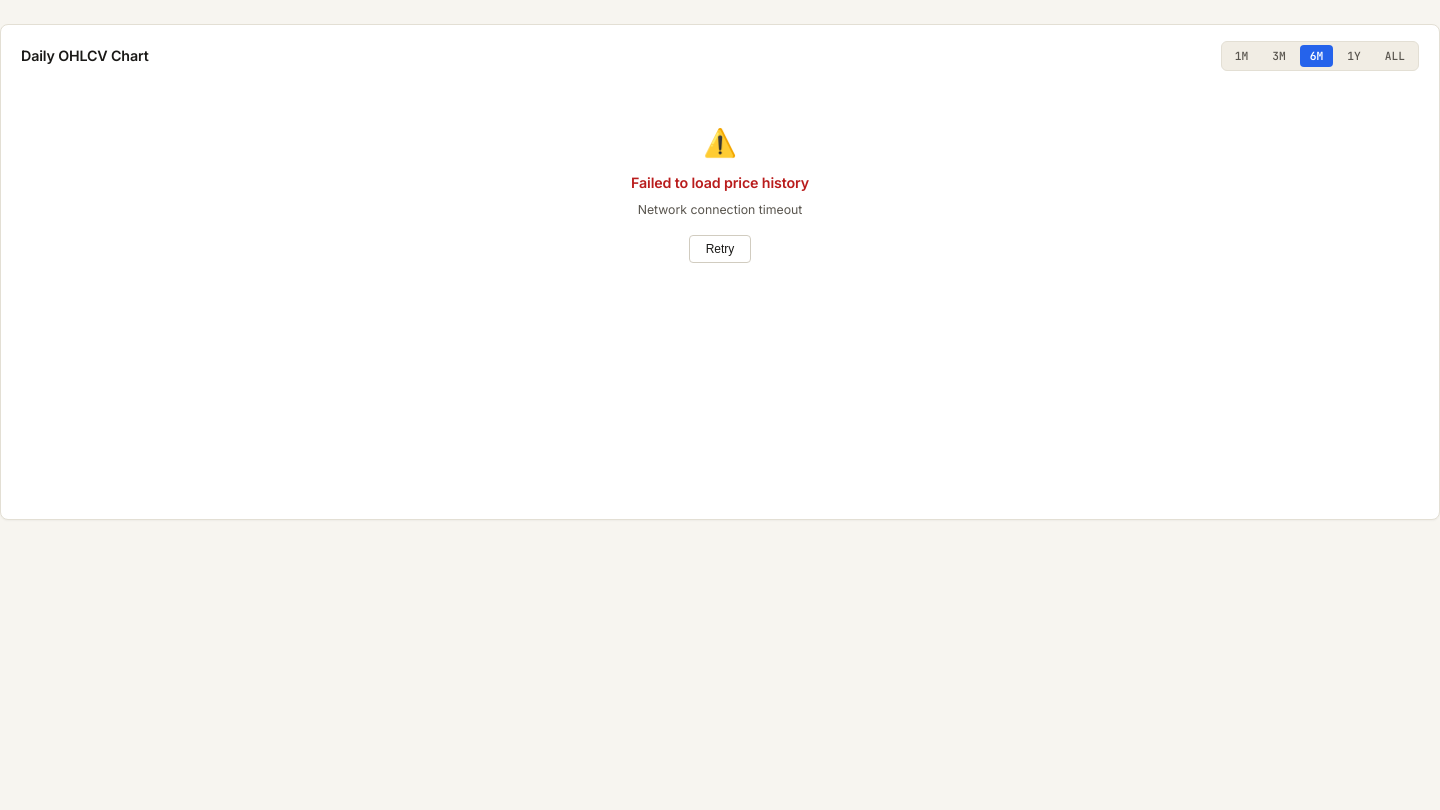
PriceChart Component › displays error state and retries on button click
Expected: the text "Failed to load price history" is shown, [631,172,809,193]
Expected: the text "Network connection timeout" is shown, [638,201,802,219]
Click Retry
Click the button "Retry" at (720, 249), box [689,235,751,263]
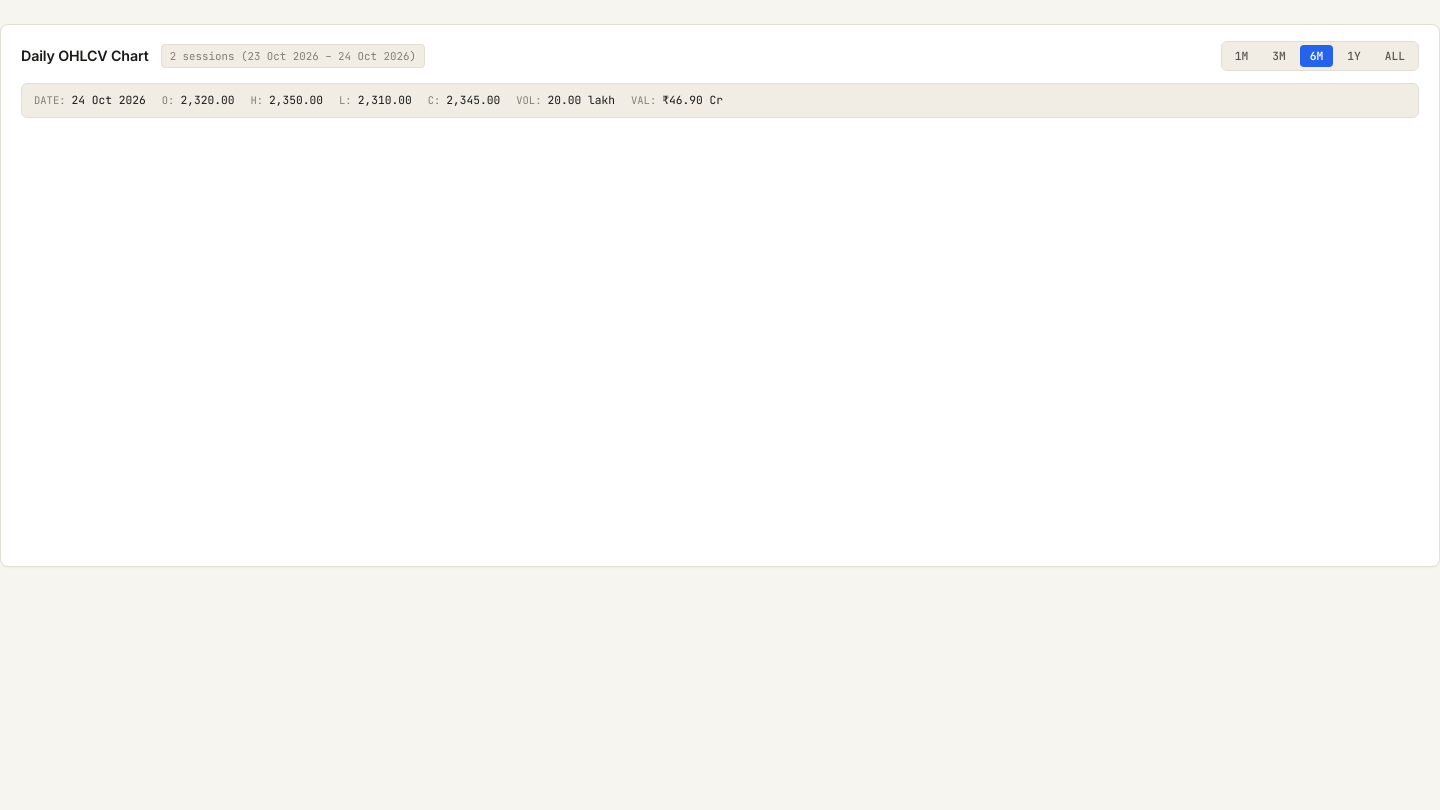
Result: the text "24 Oct 2026" is shown at [72,92,146,109]
Result: the text "Failed to load price history" is gone
